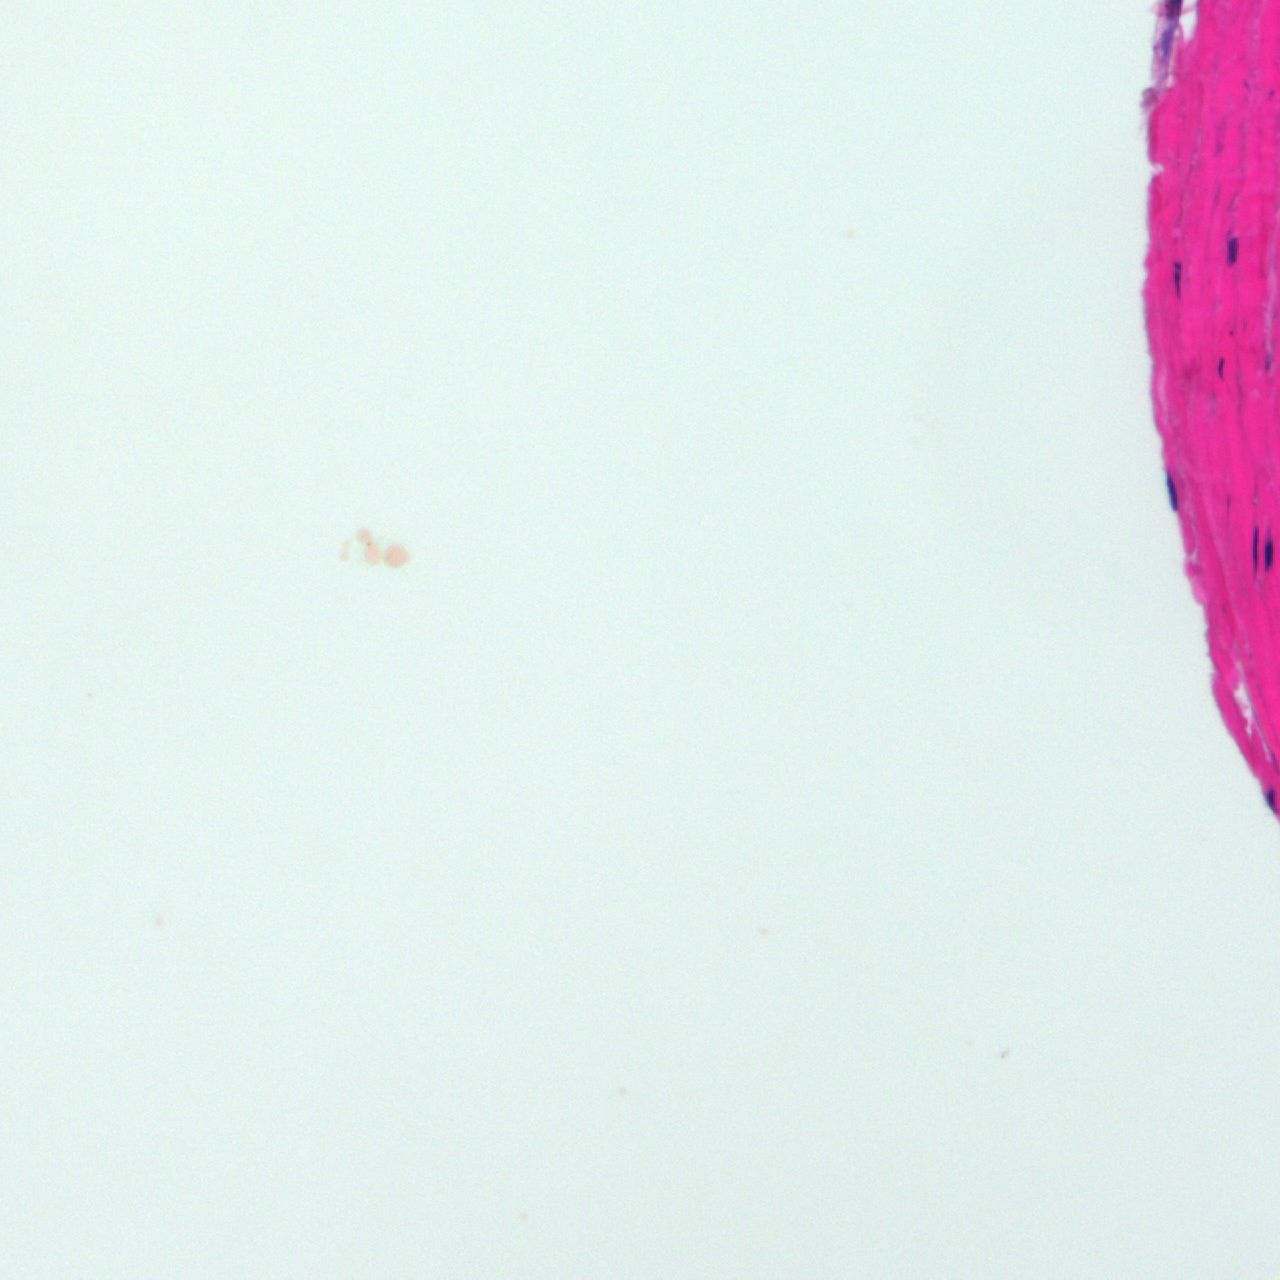nucleus-HE: (1262, 532, 1274, 570), (1252, 525, 1259, 576), (1226, 234, 1237, 265), (1173, 259, 1182, 292), (1218, 356, 1225, 375)
